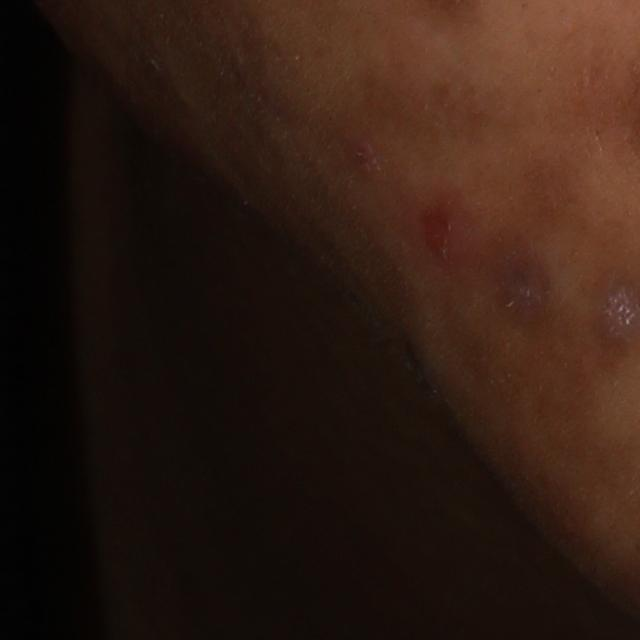papule: (413, 201, 463, 272)
